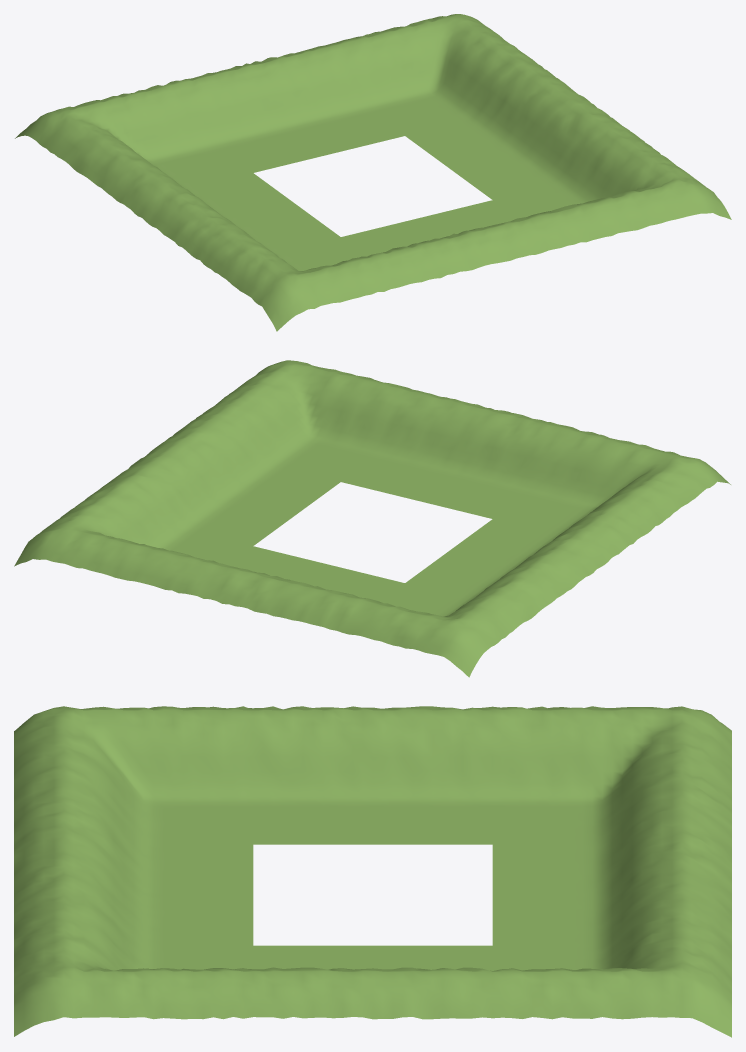
File: Mountains V1.fbx
3 views of the same model, one above another, from view 1: azimuth 30°, elevation 25°; view 2: azimuth 150°, elevation 25°; view 3: azimuth 270°, elevation 25° (orthographic). The views are drawn at different scales.
Visible parts, largest first — view 1: Lake V2.008; view 2: Lake V2.008; view 3: Lake V2.008.
Boxes of the visible parts, x1,y1,x2,y2 form: Lake V2.008: (15,14,731,331); Lake V2.008: (14,360,730,677); Lake V2.008: (14,706,731,1037).
Bounding box in the file's own units: 60000 × 4999 × 60000.
